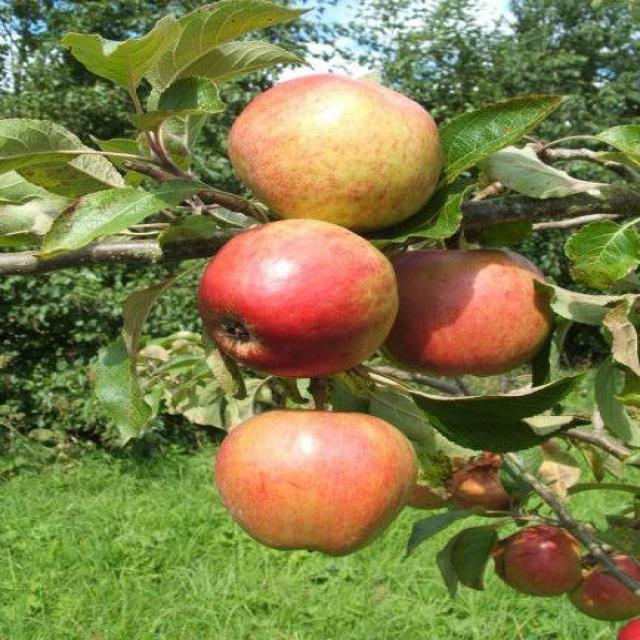Fresh Apple: (195, 388, 420, 560), (218, 88, 440, 237), (206, 240, 402, 373), (405, 240, 563, 390)
